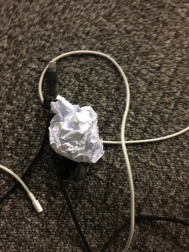paper_white: (42, 95, 106, 173)
